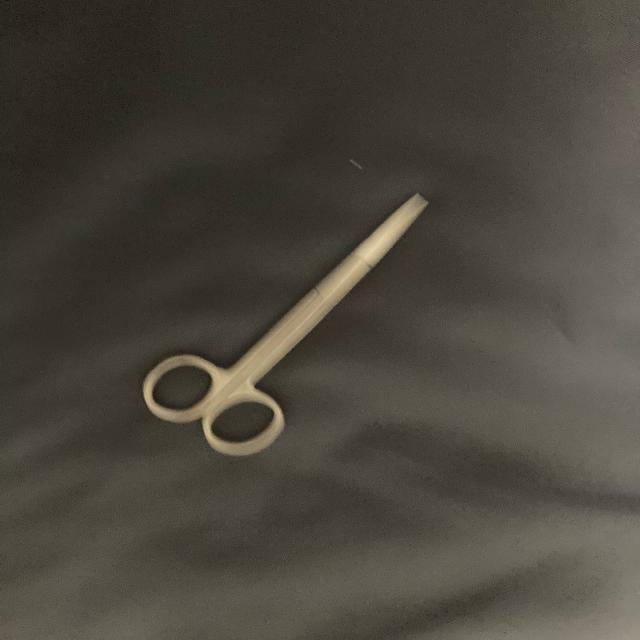Gunting: (136, 186, 438, 461)
